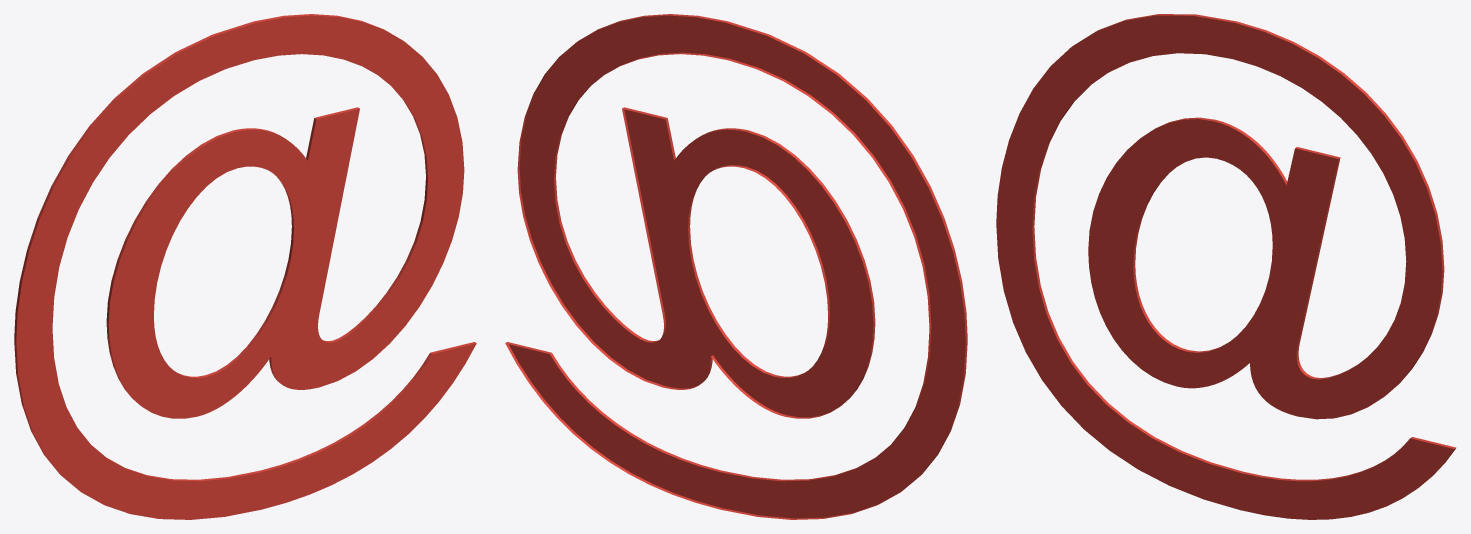
File: Spirale_spawn.glb
3 renders of one model, left to right at view 1: azimuth 30°, elevation 25°; view 2: azimuth 150°, elevation 25°; view 3: azimuth 330°, elevation 25°, orthographic.
Visible parts, largest first — view 1: Texte; view 2: Texte; view 3: Texte.
Boxes of the visible parts, <box> form: Texte: <box>14,14,476,519</box>; Texte: <box>505,14,967,519</box>; Texte: <box>996,14,1456,519</box>.
Bounding box in the file's own units: 2.67 × 2.7 × 0.0208.
1 material, 1 textured.
